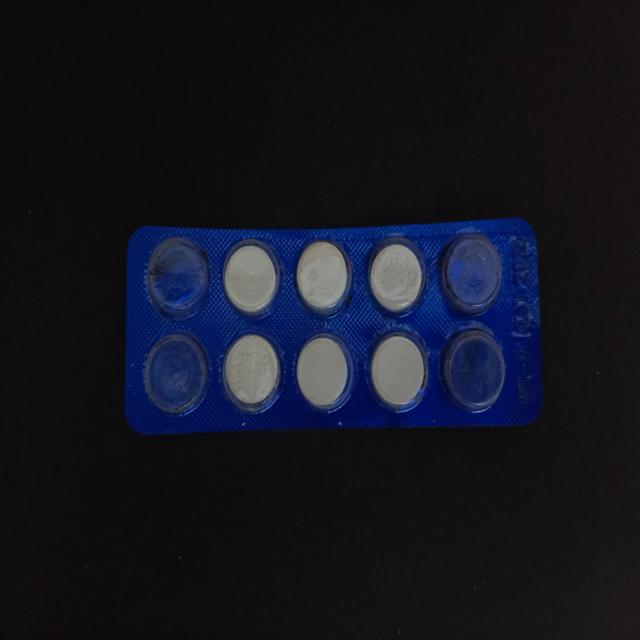defect: (439, 326, 510, 416), (144, 234, 214, 322), (438, 228, 505, 318), (143, 332, 211, 418)
